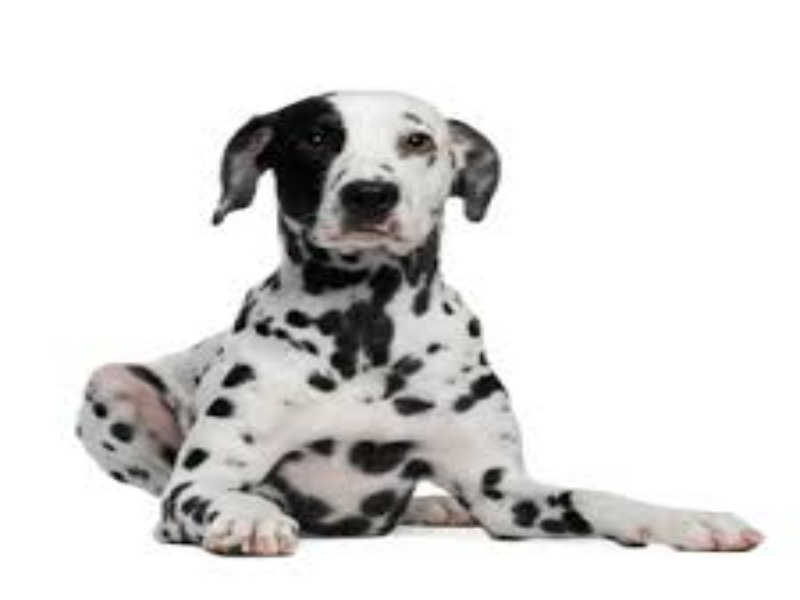dog: (64, 61, 775, 559)
